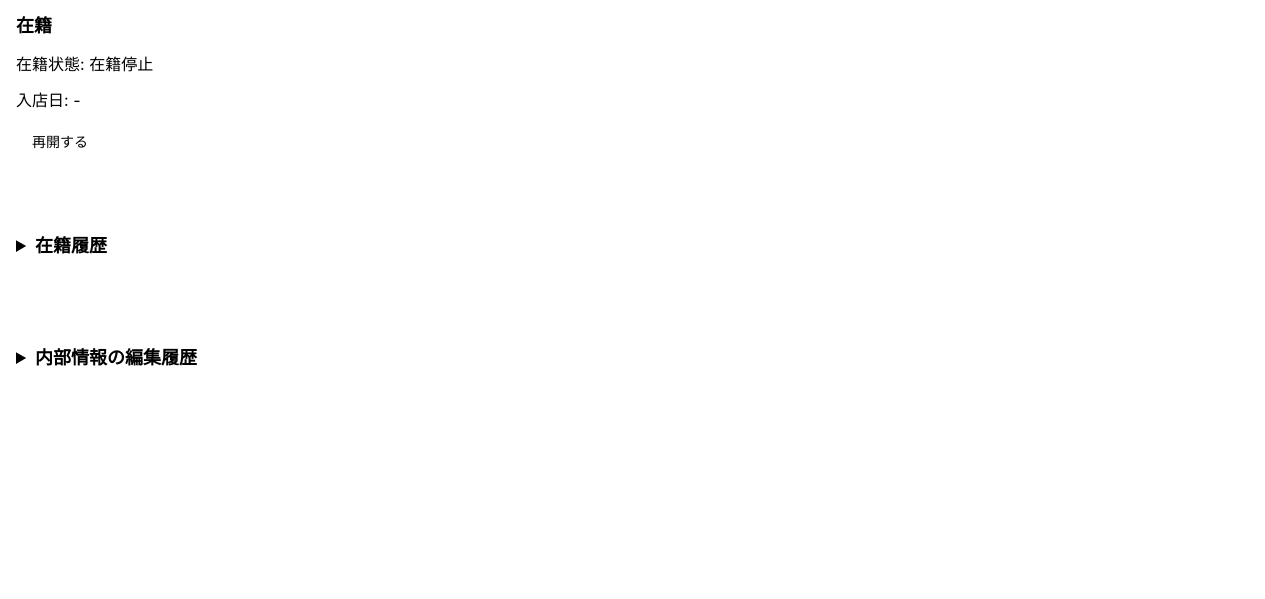
履歴をページ送りで取り直し、失敗時はその領域から再試行できる
Click the heading "在籍履歴" at (71,246), box [35,235,107,256]
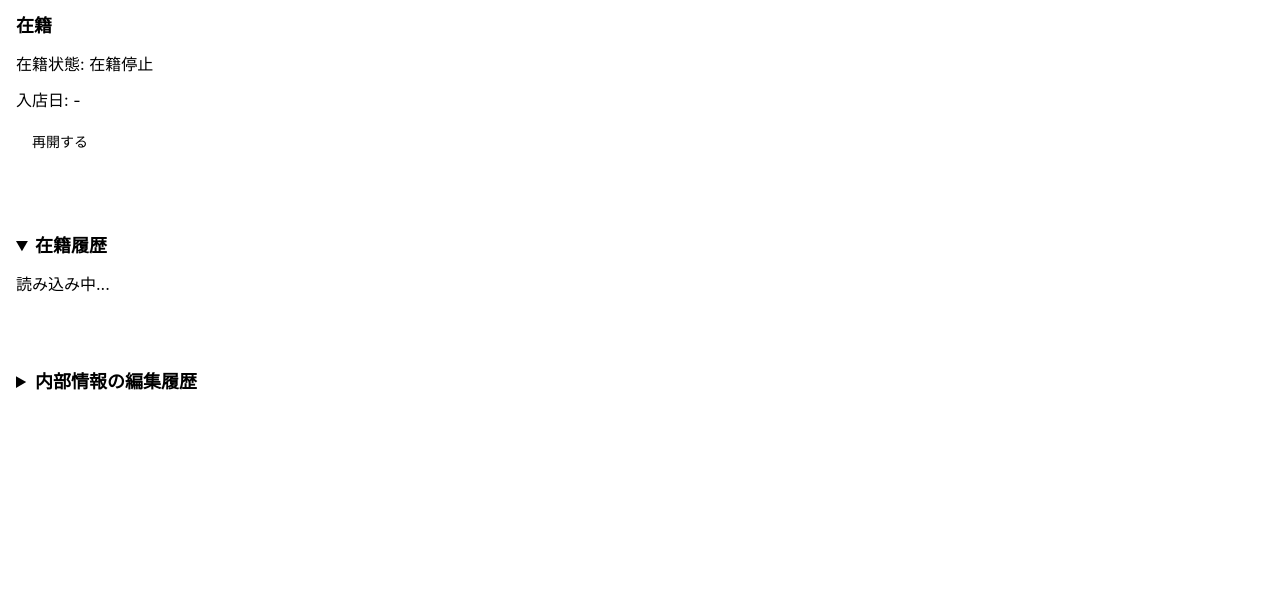
Click the heading "内部情報の編集履歴" at (116,382), box [35,371,197,392]
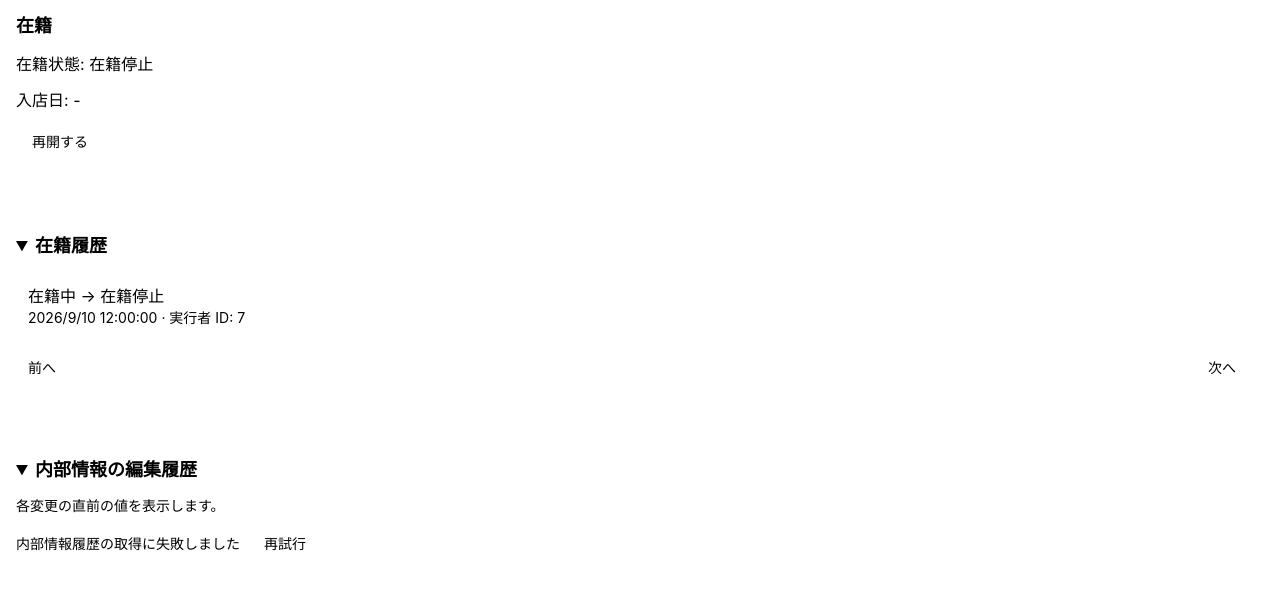
Click the button "次へ" at (1222,368), box [1196,352,1248,384]
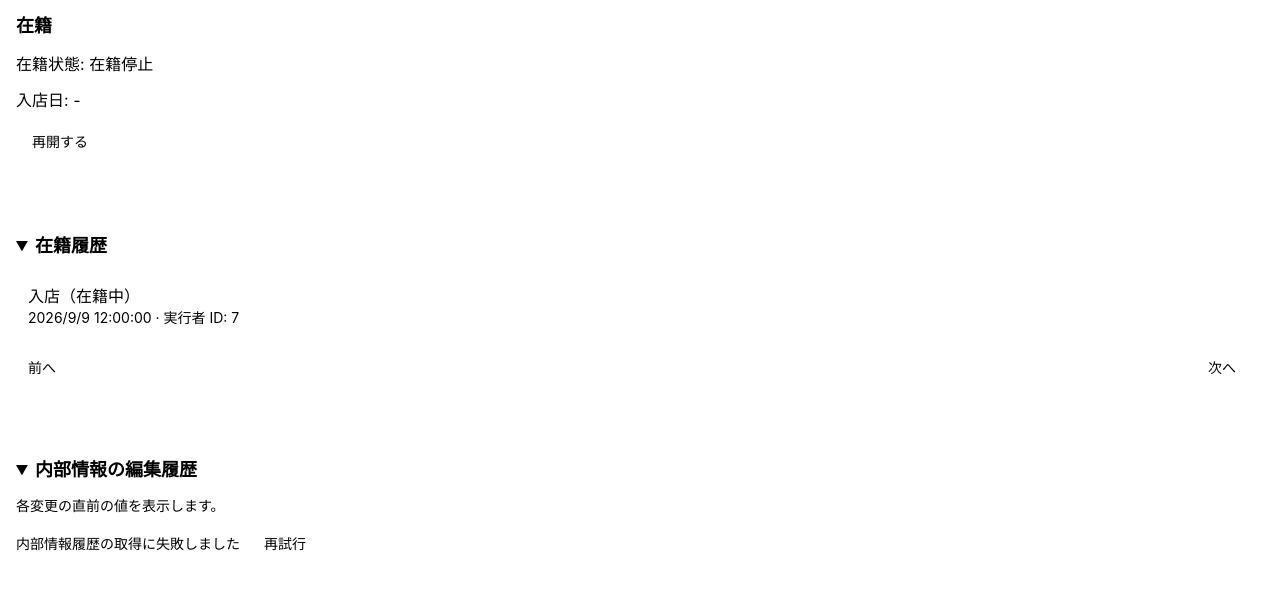
Expected: the text "入店（在籍中）" is shown, [28,286,140,306]
Expected: the text "在籍中 → 在籍停止" is gone
Click the button "再試行" at (285,544), box [252,528,318,560]
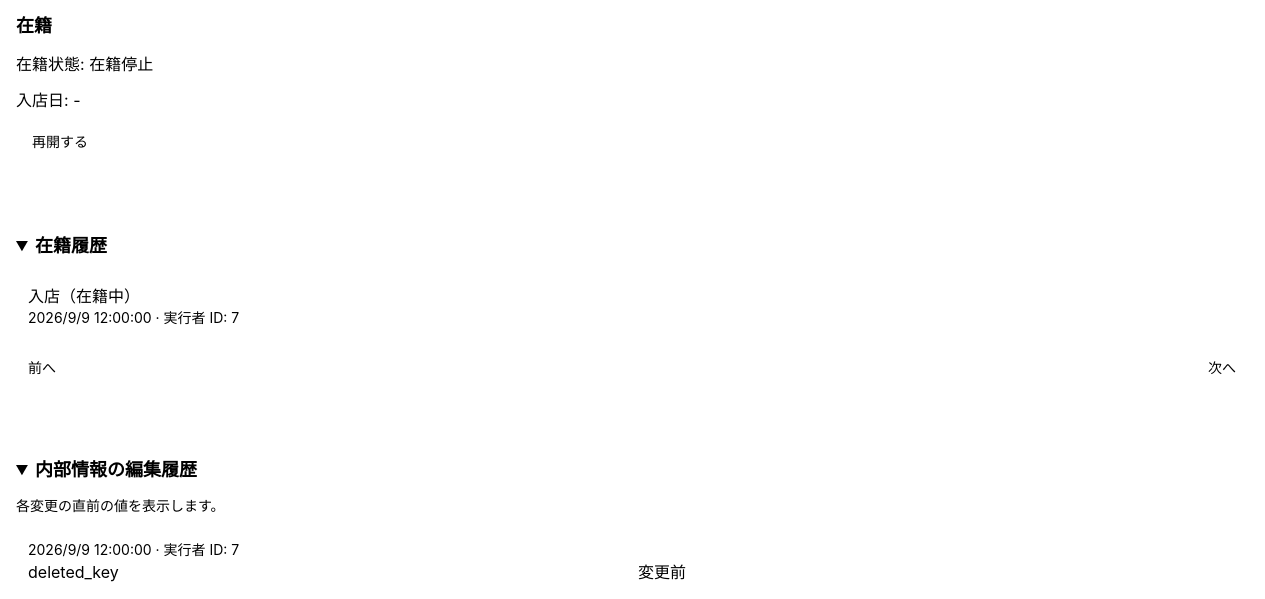
Expected: the text "deleted_key" is shown, [28,562,119,582]
Expected: the text "変更前" is shown, [638,562,686,582]
